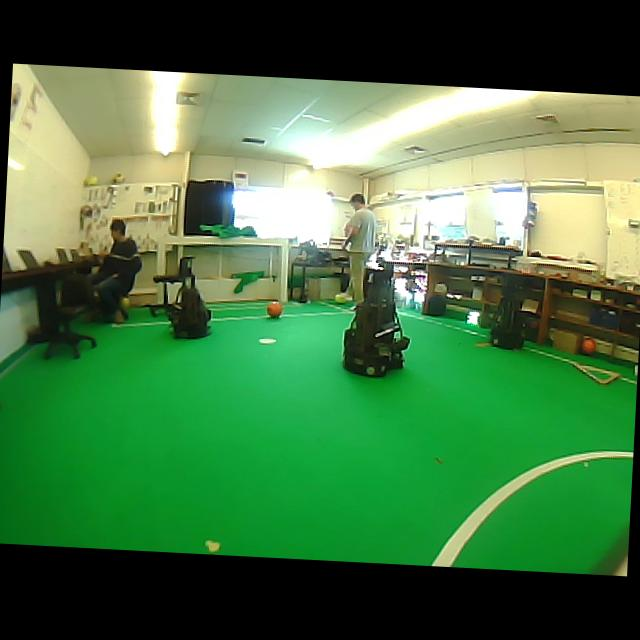ball: (266, 301, 283, 318), (582, 337, 595, 355), (335, 292, 354, 304), (119, 297, 131, 310), (112, 173, 125, 184), (85, 176, 99, 186)
goal: (279, 239, 290, 302)
robot: (343, 267, 409, 376), (168, 257, 210, 338), (490, 296, 524, 349)
